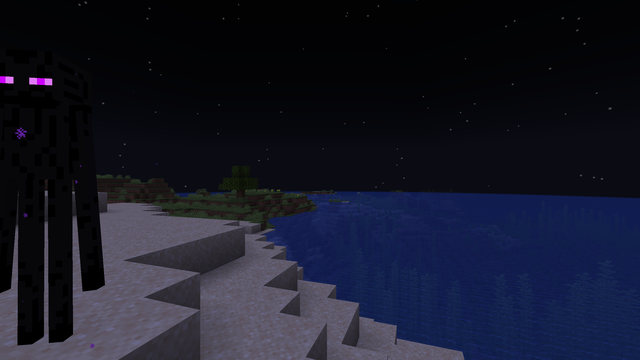endermens: (1, 31, 98, 358)
